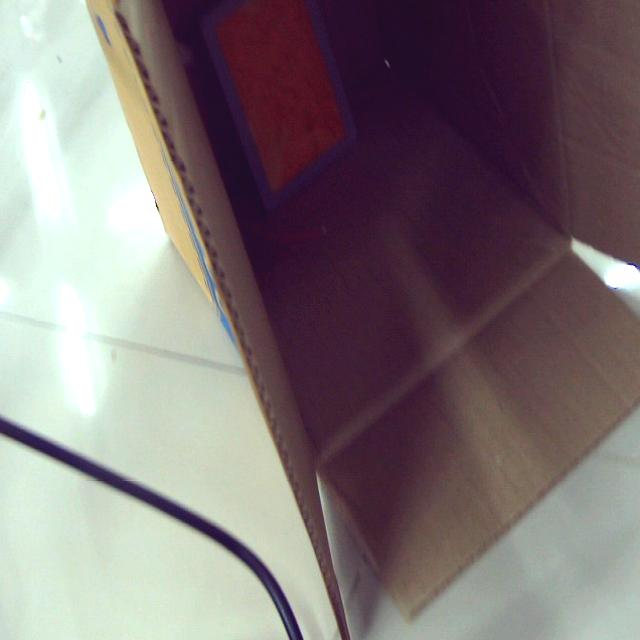block: (198, 0, 357, 211)
